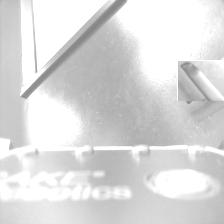Door Handle: (180, 57, 224, 104)
